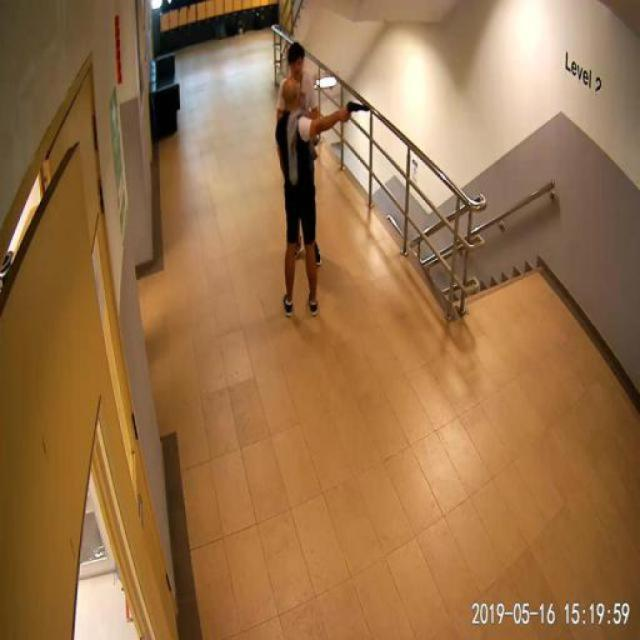pistol: (342, 100, 366, 120)
